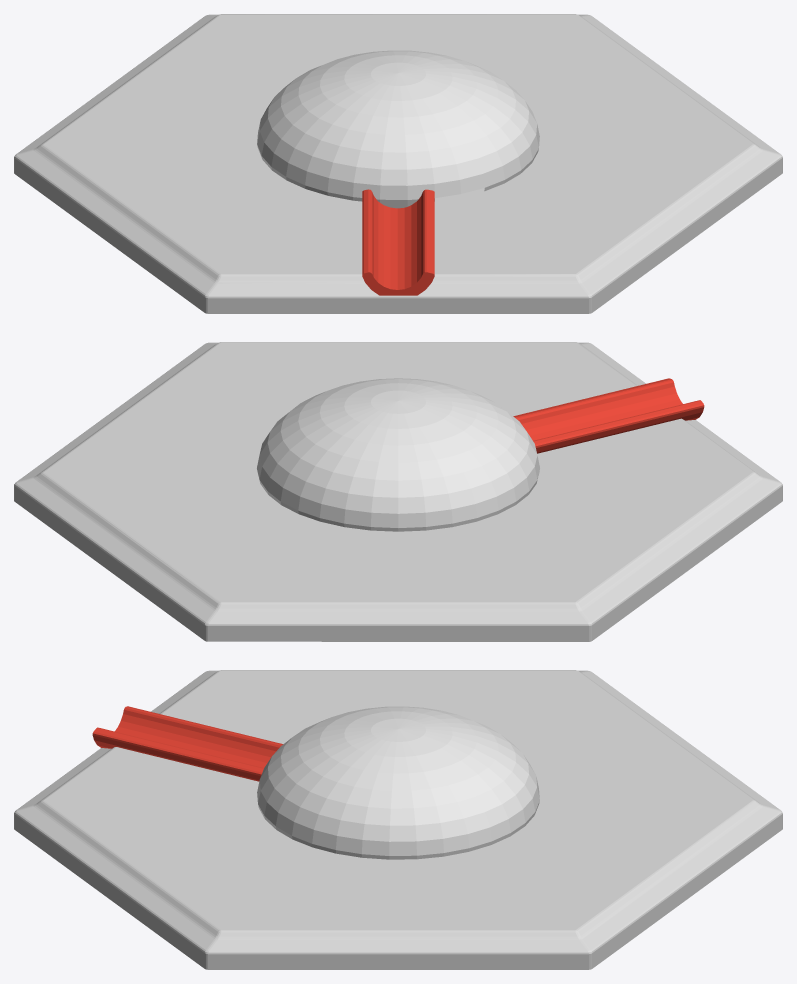
The model's file is tile_endpoint.glb.
3 renders of one model, top to bottom at view 1: azimuth 30°, elevation 25°; view 2: azimuth 150°, elevation 25°; view 3: azimuth 270°, elevation 25°, orthographic.
Visible parts, largest first — view 1: Tile_simple.005, Sphere, Cylinder.005; view 2: Tile_simple.005, Sphere, Cylinder.005; view 3: Tile_simple.005, Sphere, Cylinder.005.
Part boxes in pixels (x1,y1,x2,y2): Tile_simple.005: (14,14,782,313); Sphere: (257,50,539,208); Cylinder.005: (362,189,434,295); Tile_simple.005: (14,342,782,641); Sphere: (257,378,539,531); Cylinder.005: (513,378,704,453); Tile_simple.005: (14,670,782,969); Sphere: (257,706,539,859); Cylinder.005: (92,706,283,781).
Size of the model in its own units: 1.73 by 0.2868 by 2.
